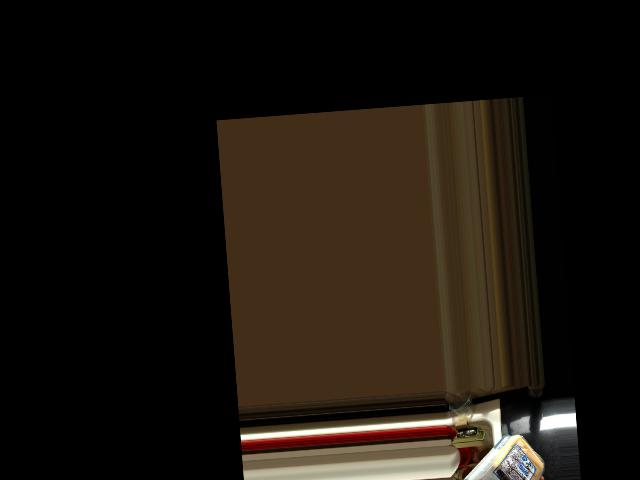cheese: (467, 431, 543, 480)
